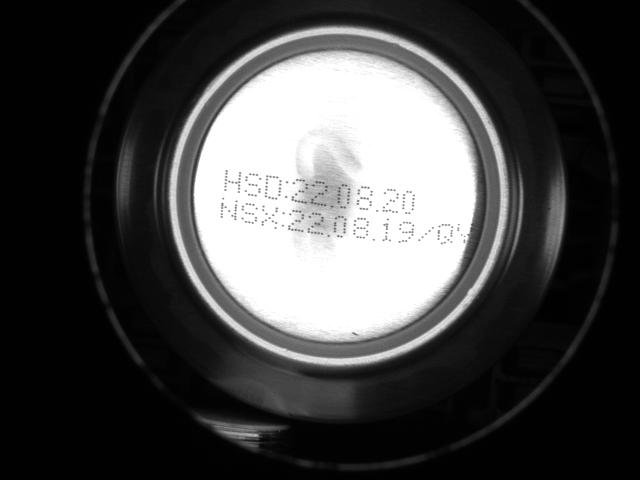.: (329, 194, 335, 212), (324, 222, 330, 240), (372, 195, 378, 213), (370, 225, 376, 243)
/: (417, 223, 435, 244)
0: (336, 182, 351, 211), (332, 212, 347, 241), (400, 187, 415, 216)
1: (381, 217, 394, 243)
2: (290, 174, 309, 206), (286, 203, 305, 235), (309, 178, 328, 210), (306, 208, 325, 240), (381, 185, 400, 217)
8: (356, 182, 373, 213), (352, 212, 369, 243)
9: (397, 218, 414, 245)
:: (284, 179, 290, 201), (279, 206, 285, 228)
D: (264, 173, 283, 201)
H: (222, 167, 242, 195)
N: (218, 195, 238, 221)
Q: (436, 221, 455, 248)
S: (243, 171, 263, 199), (239, 200, 259, 228)
X: (260, 202, 279, 232)
Y: (456, 220, 475, 247)
